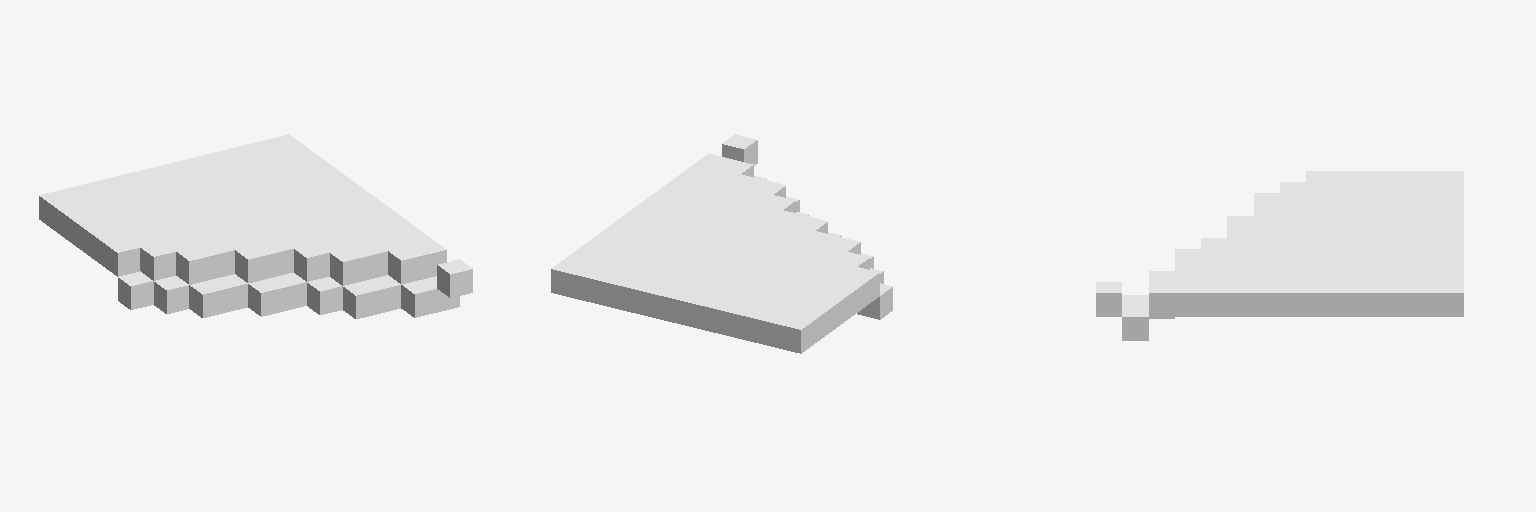
Rendered from stairs_shard-0.obj.
The picture shows the model from 3 angles: view 1: azimuth 30°, elevation 25°; view 2: azimuth 150°, elevation 25°; view 3: azimuth 270°, elevation 25°; orthographic projection.
Visible parts, largest first — view 1: object 1; view 2: object 1; view 3: object 1.
Part boxes in pixels (left/top/right/bottom): object 1: left=39, top=134, right=472, bottom=318; object 1: left=551, top=134, right=892, bottom=353; object 1: left=1096, top=171, right=1463, bottom=340.
Size of the model in its own units: 1.1 by 0.2 by 1.4.